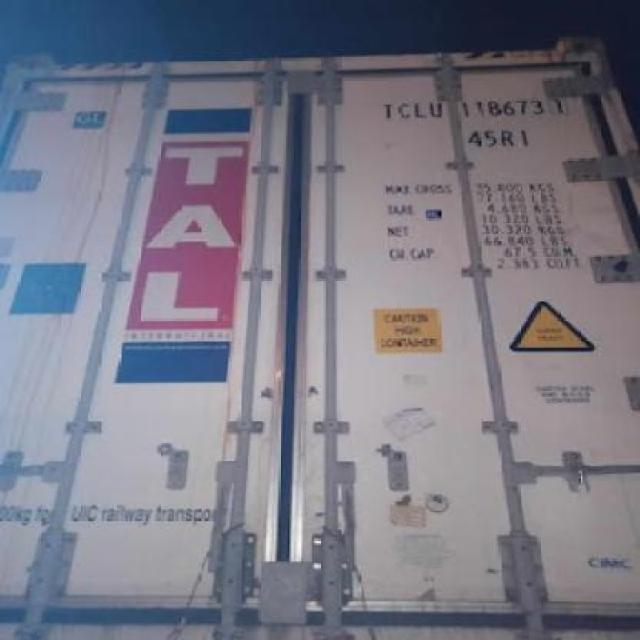ISO: (468, 124, 530, 150)
container_number: (384, 98, 563, 120)
